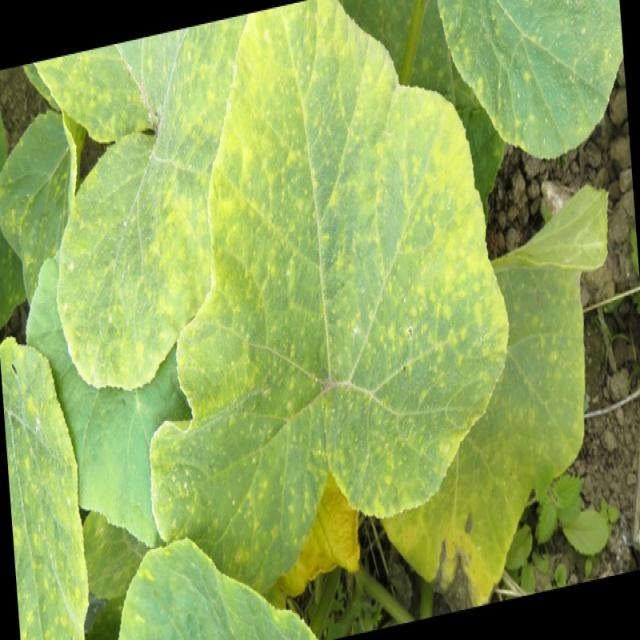Chlorosis: (27, 23, 466, 570)
